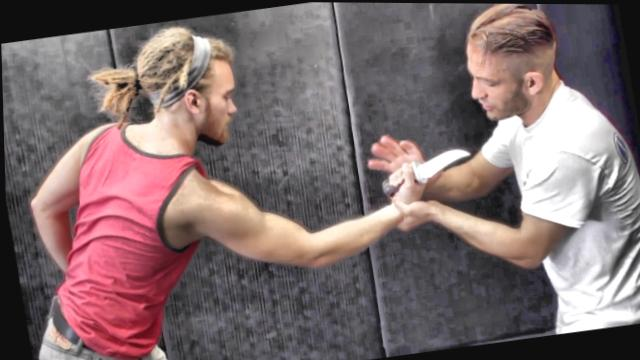knife: (371, 136, 479, 203)
